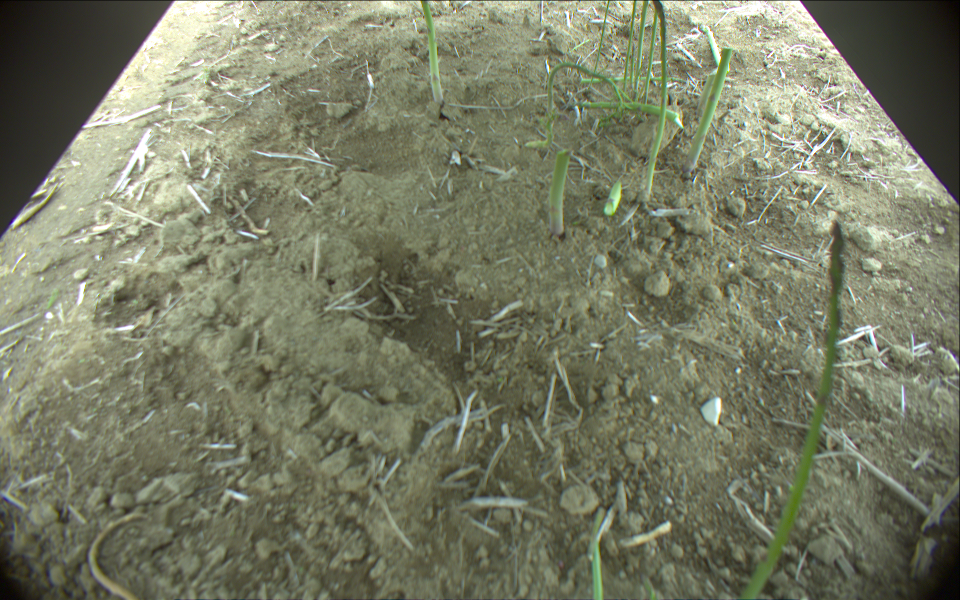aspa: (729, 216, 845, 600), (544, 61, 628, 137), (685, 47, 730, 173), (418, 1, 444, 103), (584, 101, 685, 127), (583, 504, 607, 600), (548, 146, 572, 242), (591, 1, 614, 80), (586, 71, 686, 87), (635, 1, 651, 92), (623, 1, 638, 93), (644, 7, 658, 103), (706, 24, 731, 73), (605, 179, 621, 214), (630, 43, 638, 90)
